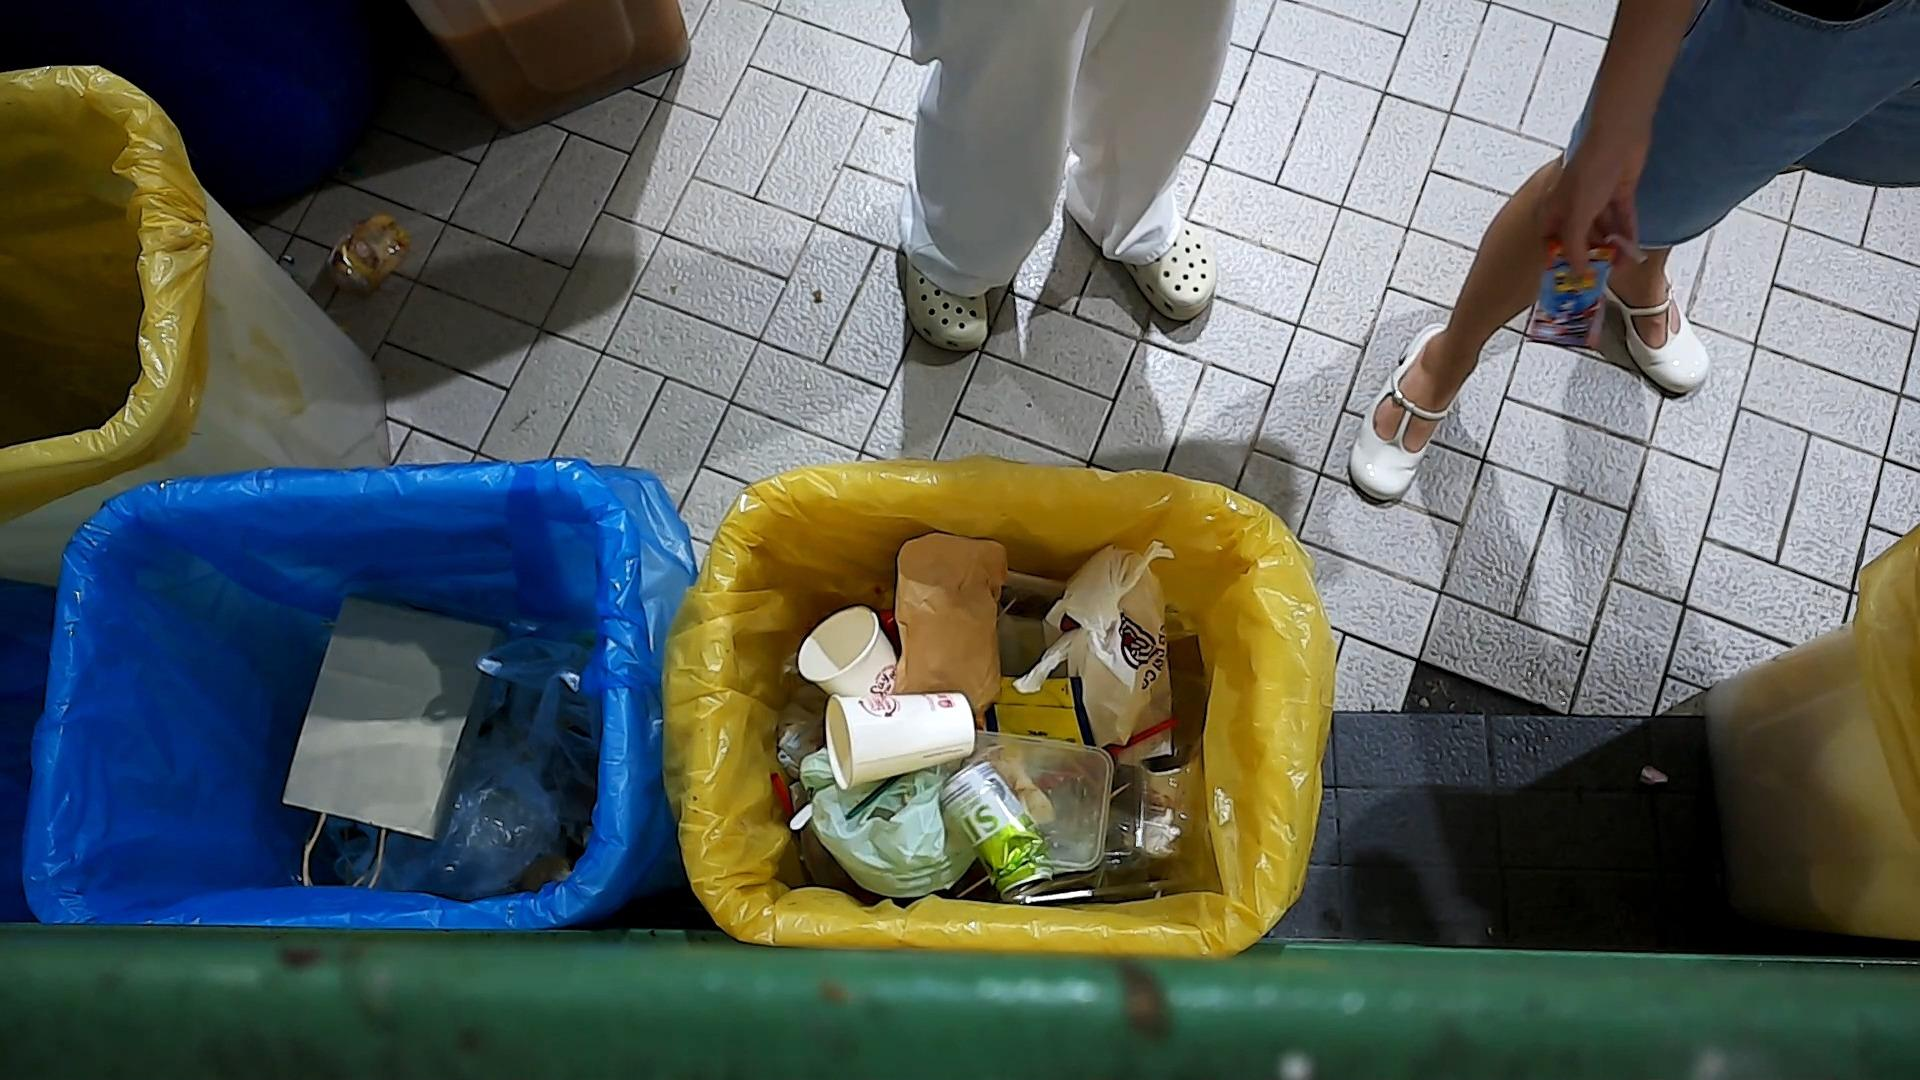can: (935, 757, 1058, 905)
dirty food container: (967, 725, 1117, 876)
filled plastic bag: (1011, 535, 1176, 764), (795, 731, 980, 902)
milk carton: (1523, 223, 1654, 356)
paper bag: (268, 587, 502, 891), (889, 530, 1007, 716)
plastic bag: (344, 676, 575, 906)
plastic cutlery: (841, 771, 911, 822)
snack packaging: (990, 673, 1096, 746)
straw: (1108, 715, 1182, 760)
zero waste cup: (822, 690, 977, 794), (795, 603, 898, 699)
